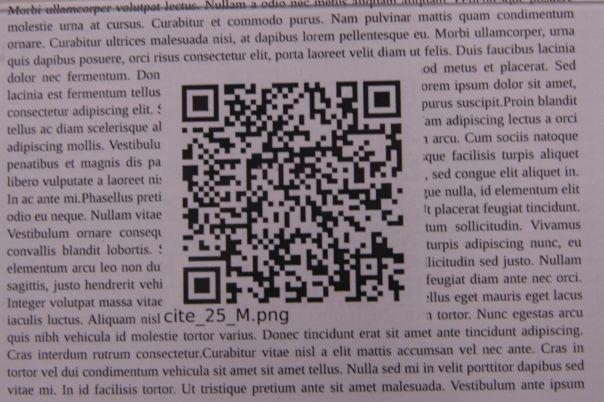Finder pattern: (360, 77, 406, 121), (181, 262, 225, 307), (178, 81, 222, 125)
